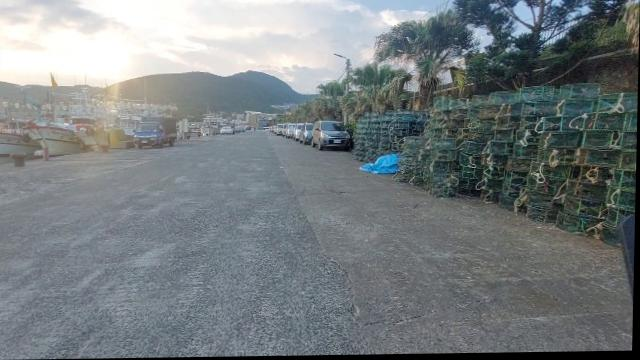pollute: (360, 154, 404, 175)
